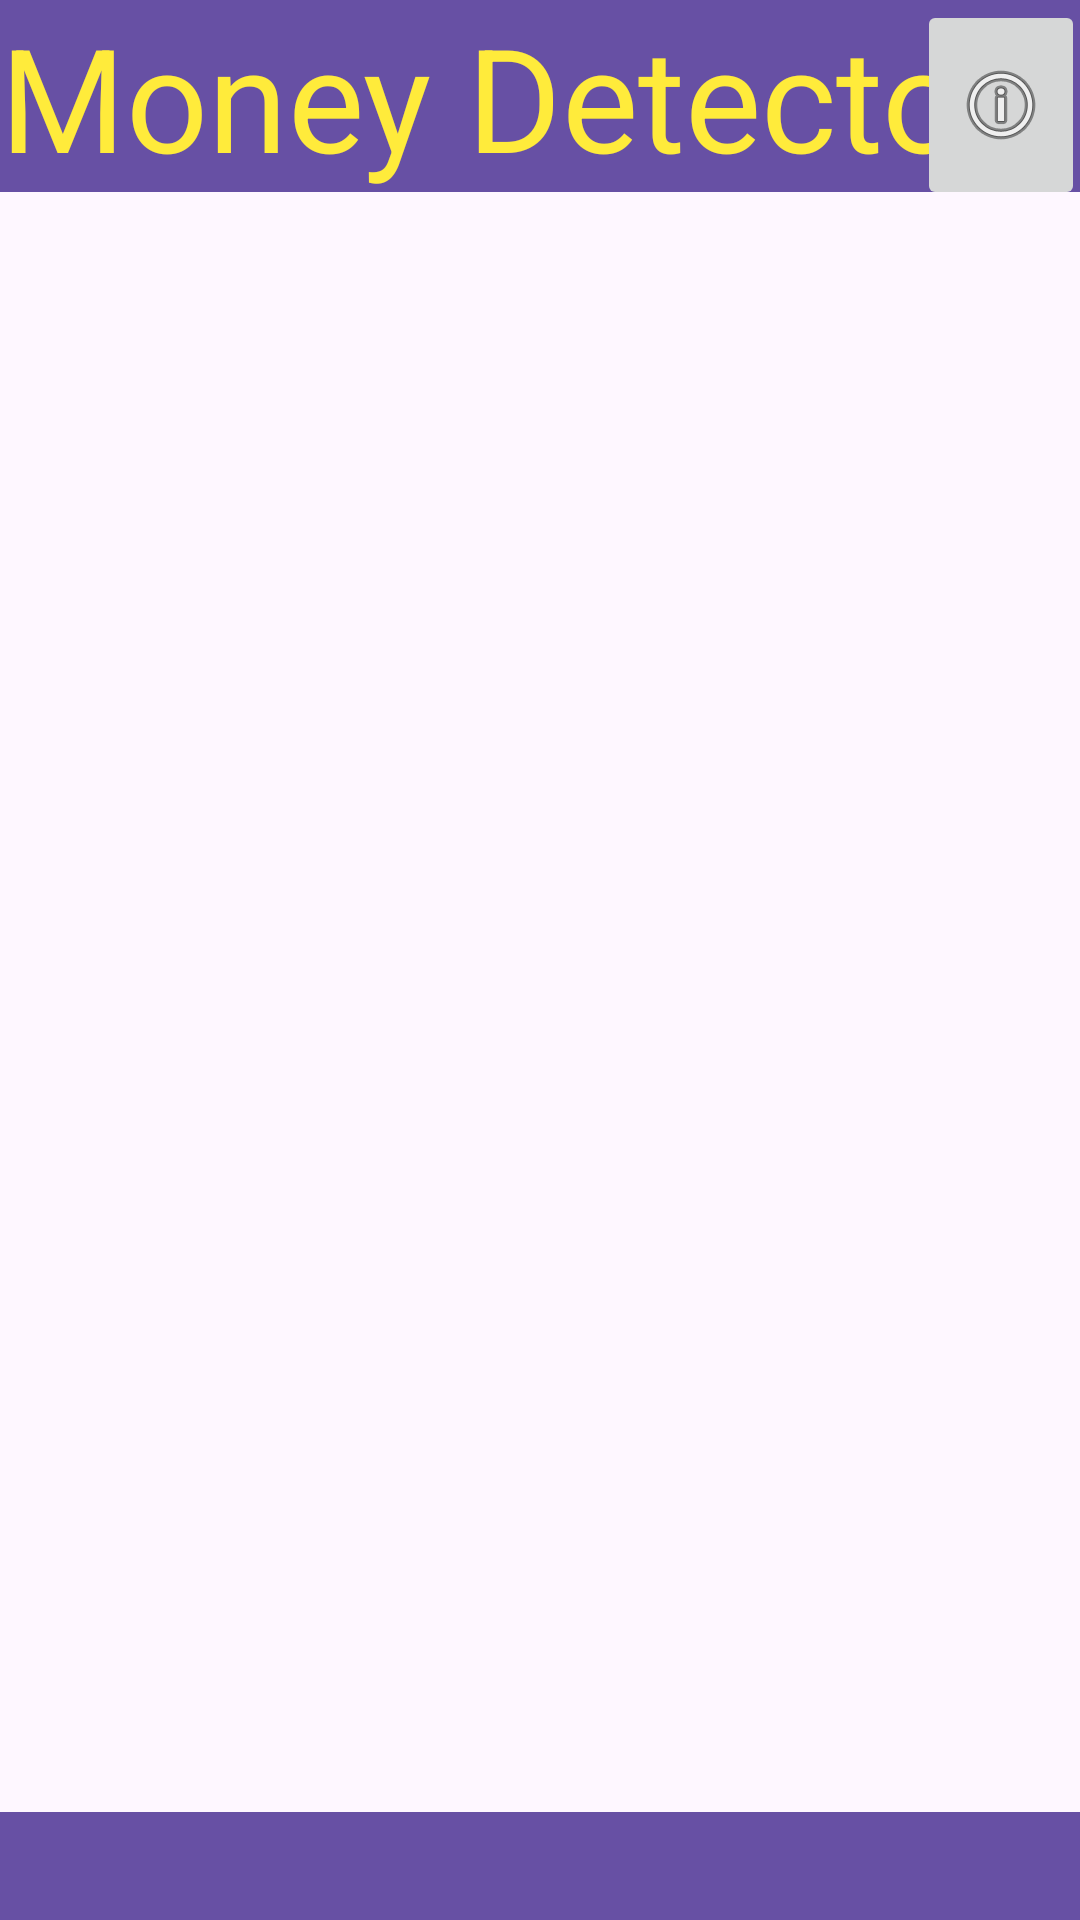

Where to tap for icons on this 1080*1920 app screen, as (x,y):
info details: (998,105)
